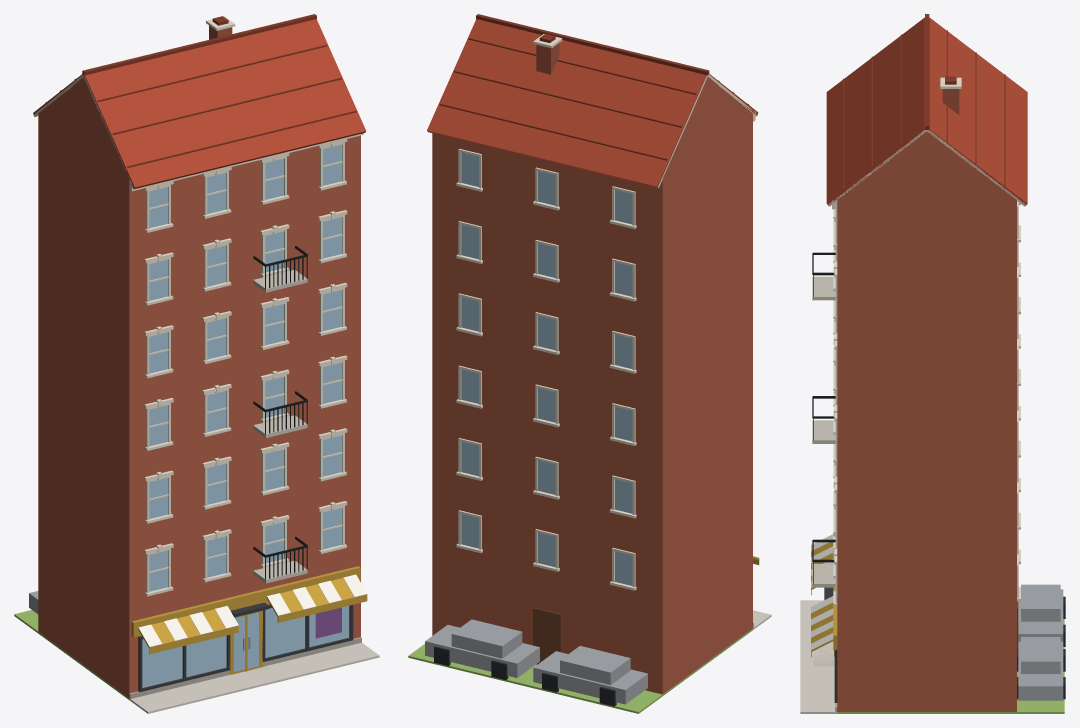
Rendered from Blok_duz_7k_2_Hafif.fbx.
3 views of the same model, side by side, from view 1: azimuth 30°, elevation 25°; view 2: azimuth 150°, elevation 25°; view 3: azimuth 270°, elevation 25° (orthographic).
Visible parts, largest first — view 1: Blok_duz_7k_2_Hafif; view 2: Blok_duz_7k_2_Hafif; view 3: Blok_duz_7k_2_Hafif.
Part boxes in pixels (x1,y1,x2,y2): Blok_duz_7k_2_Hafif: (14,14,379,713); Blok_duz_7k_2_Hafif: (408,14,771,713); Blok_duz_7k_2_Hafif: (800,14,1065,713).
Bounding box in the file's own units: 10.04 × 24.9 × 10.04.
